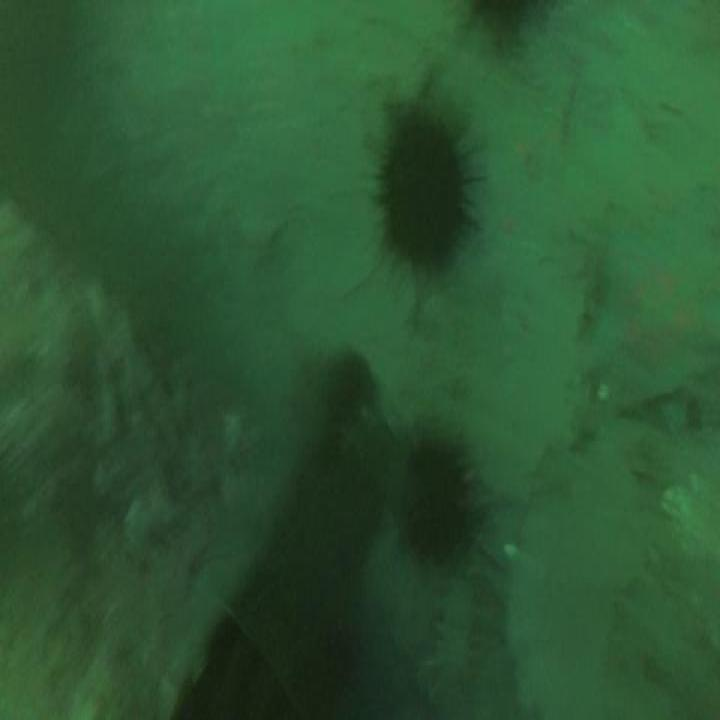echinus: (387, 117, 471, 265), (407, 442, 473, 564), (322, 347, 374, 437)
